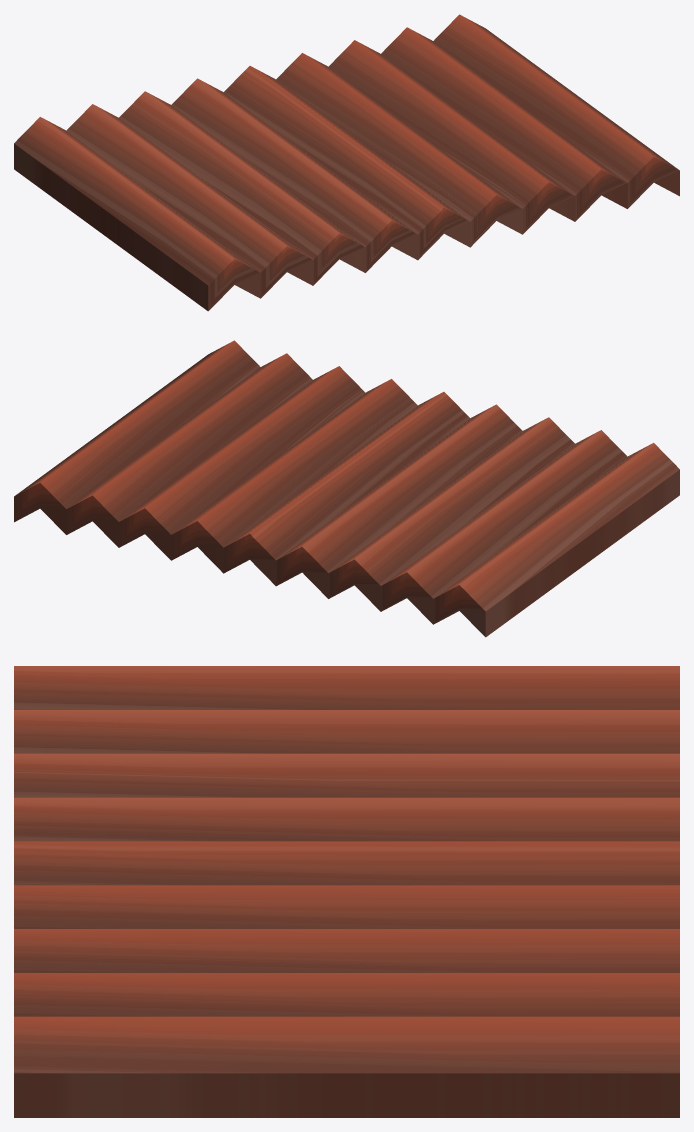
The model's file is B1Roof_Wood.fbx.
The picture shows the model from 3 angles, top to bottom: view 1: azimuth 30°, elevation 25°; view 2: azimuth 150°, elevation 25°; view 3: azimuth 270°, elevation 25°; orthographic projection. The views are drawn at different scales.
Visible parts, largest first — view 1: Roof_B1; view 2: Roof_B1; view 3: Roof_B1.
Boxes of the visible parts, x1,y1,x2,y2 form: Roof_B1: (14,14,679,311); Roof_B1: (14,340,679,637); Roof_B1: (14,666,679,1117).
Size of the model in its own units: 332 by 31.1 by 237.
